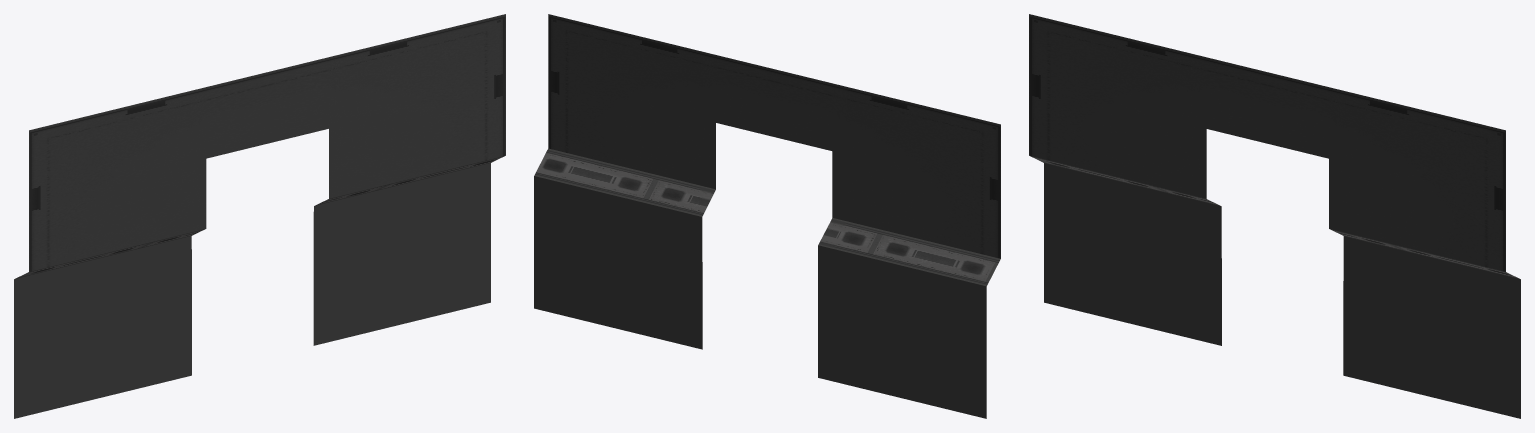
File: Wall2°RoomDoor2.fbx
The picture shows the model from 3 angles, left to right: view 1: azimuth 30°, elevation 25°; view 2: azimuth 150°, elevation 25°; view 3: azimuth 330°, elevation 25°; orthographic projection. The views are drawn at different scales.
Parts seen in each view (by area): view 1: Plane; view 2: Plane; view 3: Plane.
Boxes of the visible parts, x1,y1,x2,y2 form: Plane: (14, 14, 505, 418); Plane: (534, 14, 1000, 418); Plane: (1029, 14, 1520, 418).
Bounding box in the file's own units: 800 × 480 × 43.14.
